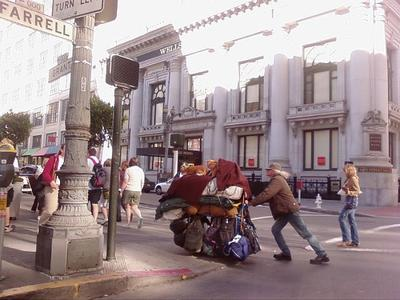person: (244, 163, 329, 266)
